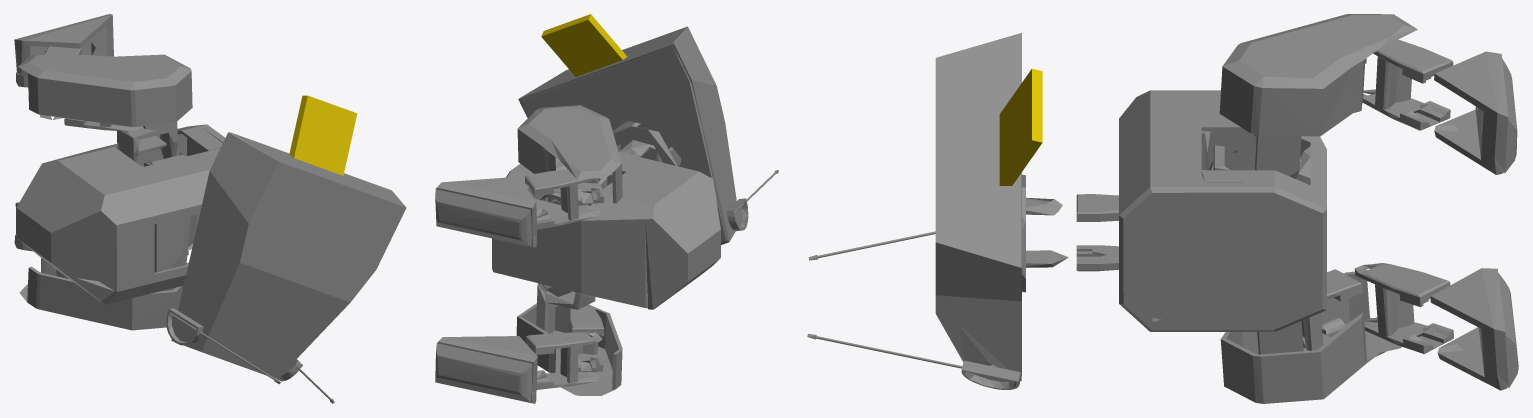
Rendered from duck_mesh_v3_head60_jaw22.glb.
The picture shows the model from 3 angles, left to right: view 1: azimuth 30°, elevation 25°; view 2: azimuth 150°, elevation 25°; view 3: azimuth 270°, elevation 25°; orthographic projection. The views are drawn at different scales.
Visible parts, largest first — view 1: geometry_0; view 2: geometry_0; view 3: geometry_0.
Boxes of the visible parts, x1,y1,x2,y2 form: geometry_0: (14, 14, 406, 403); geometry_0: (435, 14, 778, 403); geometry_0: (807, 14, 1518, 403).
Bounding box in the file's own units: 0.2035 × 0.1918 × 0.3423.
